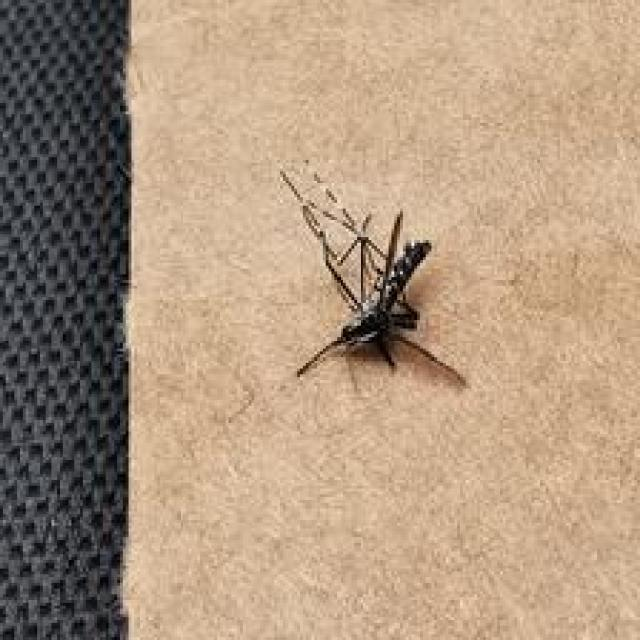Aedes albopictus: (277, 166, 469, 394)
